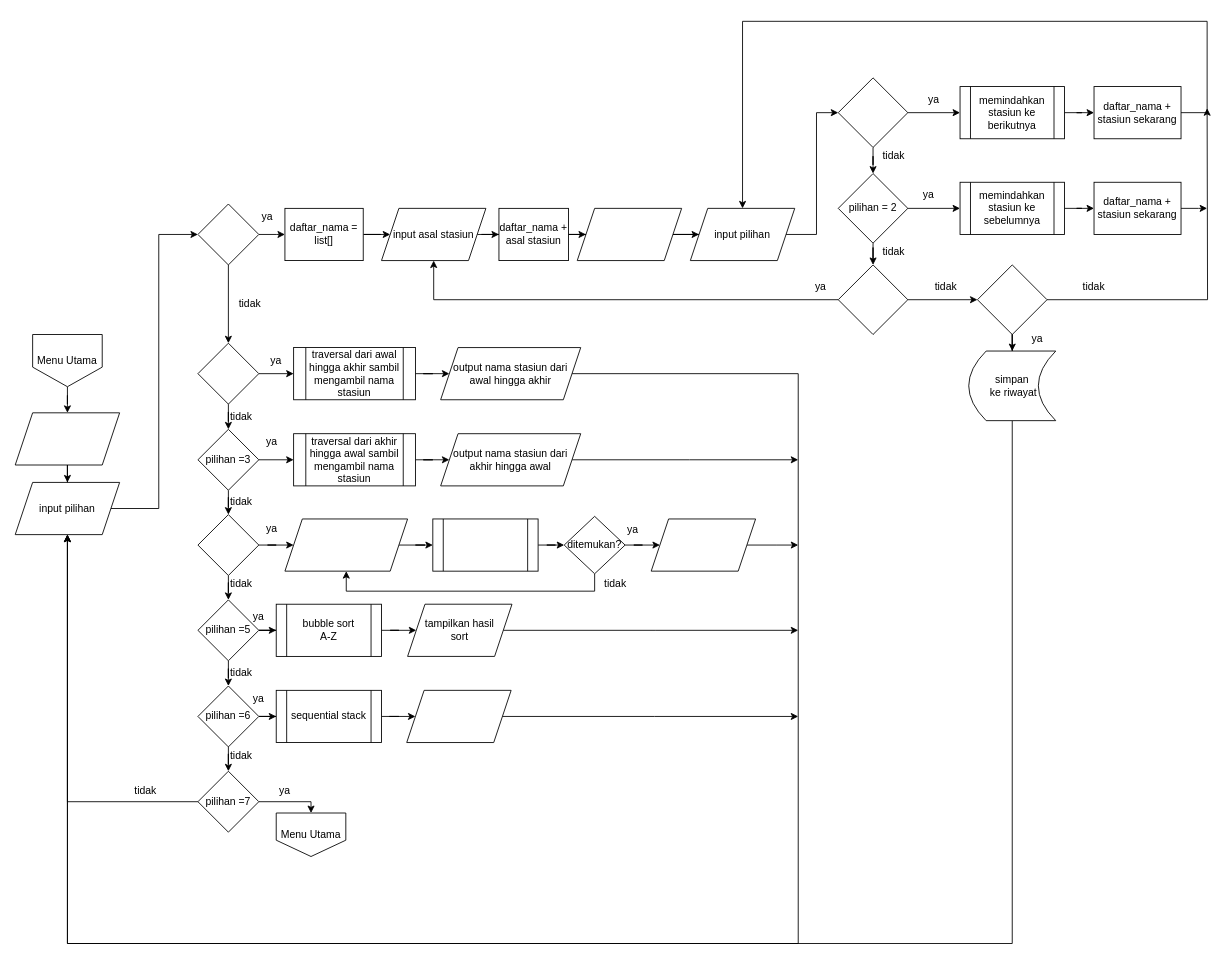
This 1230x966 diagram has some shape labels left out. The shapes that lost their labels are listed below. From the top down, each one's centre as x and y in pixels, then its label:
point 872,112: pilihan = 1
point 228,234: pilihan =1
point 629,234: menampilkan menu simulasi
point 872,299: pilihan = 3
point 1012,299: pilihan = 4
point 228,373: pilihan =2
point 67,438: menampilkan menu pelanggan
point 228,545: pilihan =4
point 346,544: input kode, nama, atau kota stasiun yang ingin dicari
point 485,544: sequential search
point 703,544: tampilkan data stasiun-stasiun
point 458,716: tampilkan riwayat perjalanan
